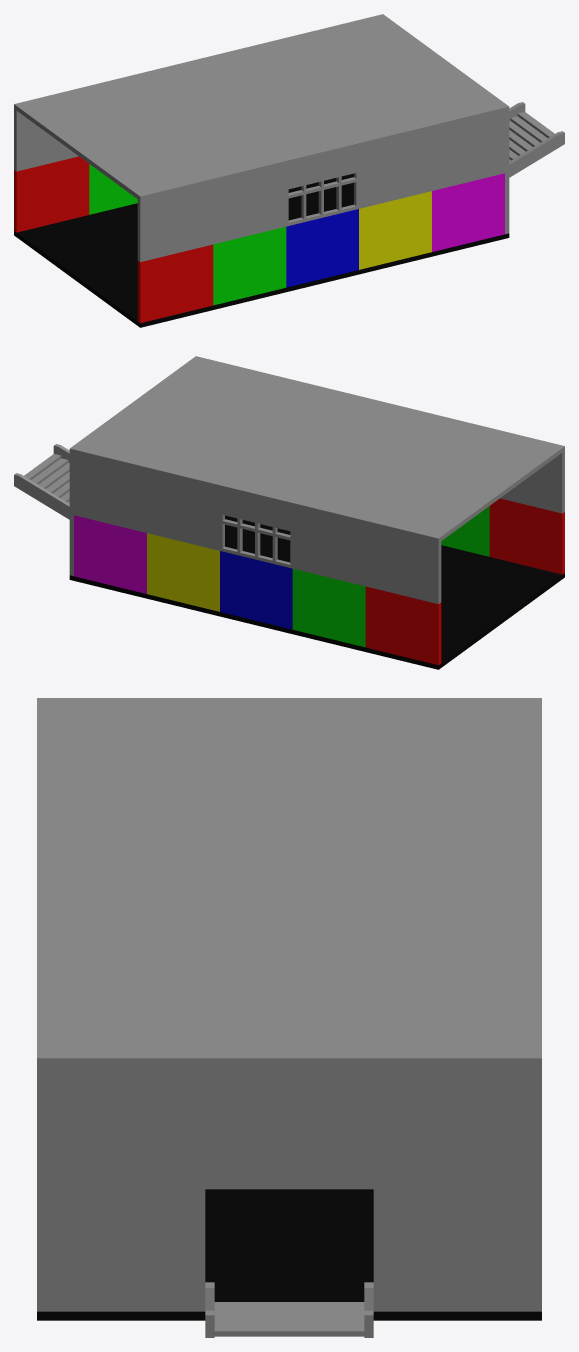
File: test_level.glb
The picture shows the model from 3 angles, top to bottom: view 1: azimuth 30°, elevation 25°; view 2: azimuth 150°, elevation 25°; view 3: azimuth 270°, elevation 25°; orthographic projection. The views are drawn at different scales.
Parts seen in each view (by area): view 1: Corridor; view 2: Corridor; view 3: Corridor.
Boxes of the visible parts, x1,y1,x2,y2 form: Corridor: (14, 14, 564, 327); Corridor: (14, 356, 564, 669); Corridor: (37, 698, 541, 1337).
Size of the model in its own units: 32 by 8.6 by 15.
